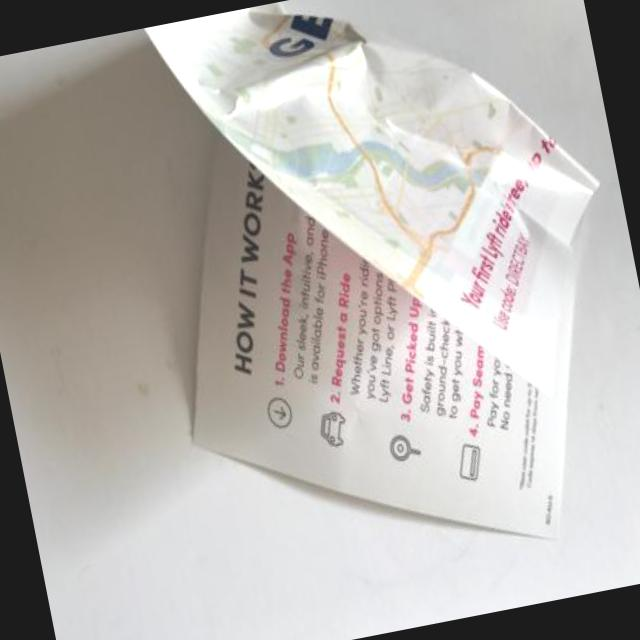giay: (143, 1, 599, 539)
